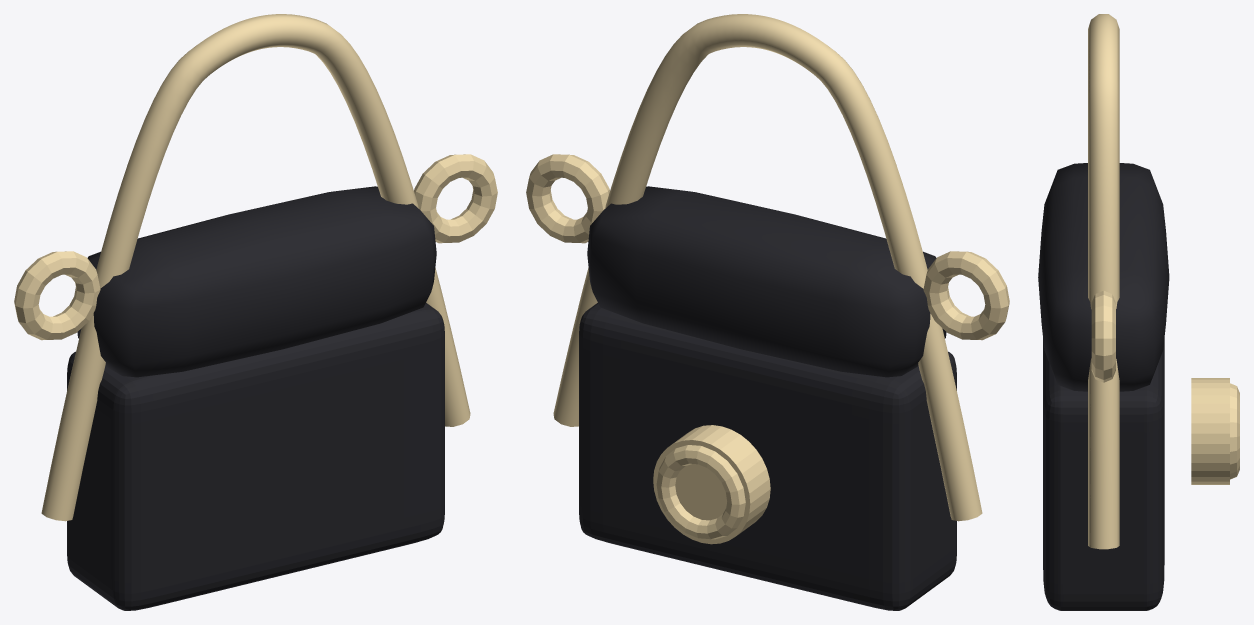
File: bag.glb
3 renders of one model, left to right at view 1: azimuth 30°, elevation 25°; view 2: azimuth 150°, elevation 25°; view 3: azimuth 270°, elevation 25°, orthographic. The views are drawn at different scales.
Parts seen in each view (by area): view 1: bag, Cube, handle, Torus.001, Torus.002; view 2: bag, Cube, handle, Cylinder, Torus.001, Torus.002, Torus; view 3: bag, Cube, handle, Cylinder, Torus.002, Torus.
Boxes of the visible parts, <box> form: bag: <box>67,303,444,610</box>; Cube: <box>77,186,436,377</box>; handle: <box>41,14,470,521</box>; Torus.001: <box>14,251,100,340</box>; Torus.002: <box>414,154,497,243</box>; bag: <box>579,303,956,610</box>; Cube: <box>587,186,946,377</box>; handle: <box>553,14,982,521</box>; Cylinder: <box>653,425,770,544</box>; Torus.001: <box>923,251,1009,340</box>; Torus.002: <box>526,154,609,243</box>; Torus: <box>656,445,745,539</box>; bag: <box>1043,338,1164,610</box>; Cube: <box>1038,163,1169,391</box>; handle: <box>1088,14,1119,549</box>; Cylinder: <box>1191,378,1229,484</box>; Torus.002: <box>1091,290,1115,382</box>; Torus: <box>1230,383,1239,479</box>.
Size of the model in its own units: 0.218 by 0.2336 by 0.083.
